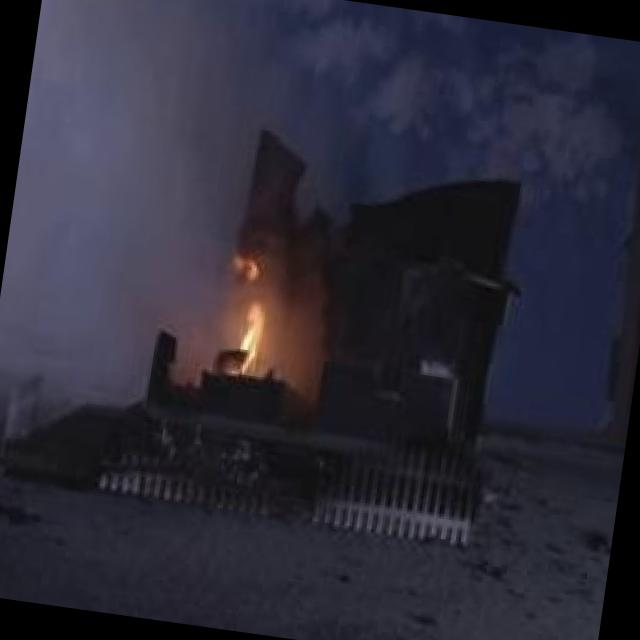fire: (198, 245, 304, 378)
smoke: (1, 0, 246, 318)
